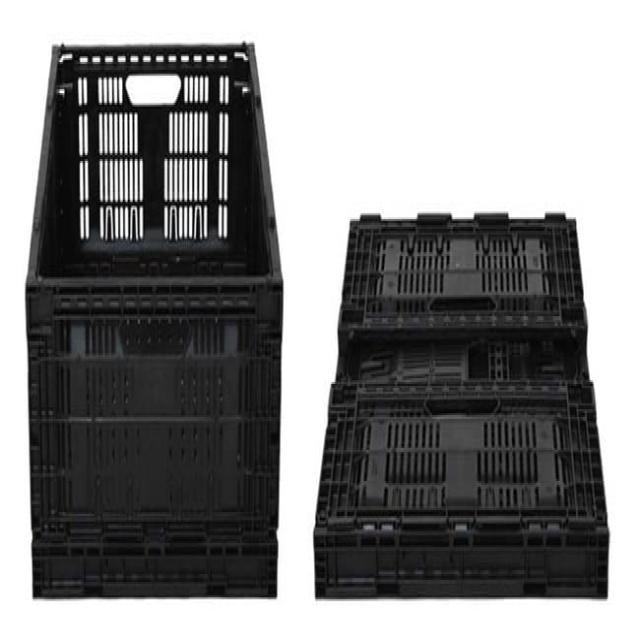basket: (22, 42, 288, 600), (316, 213, 610, 598)
